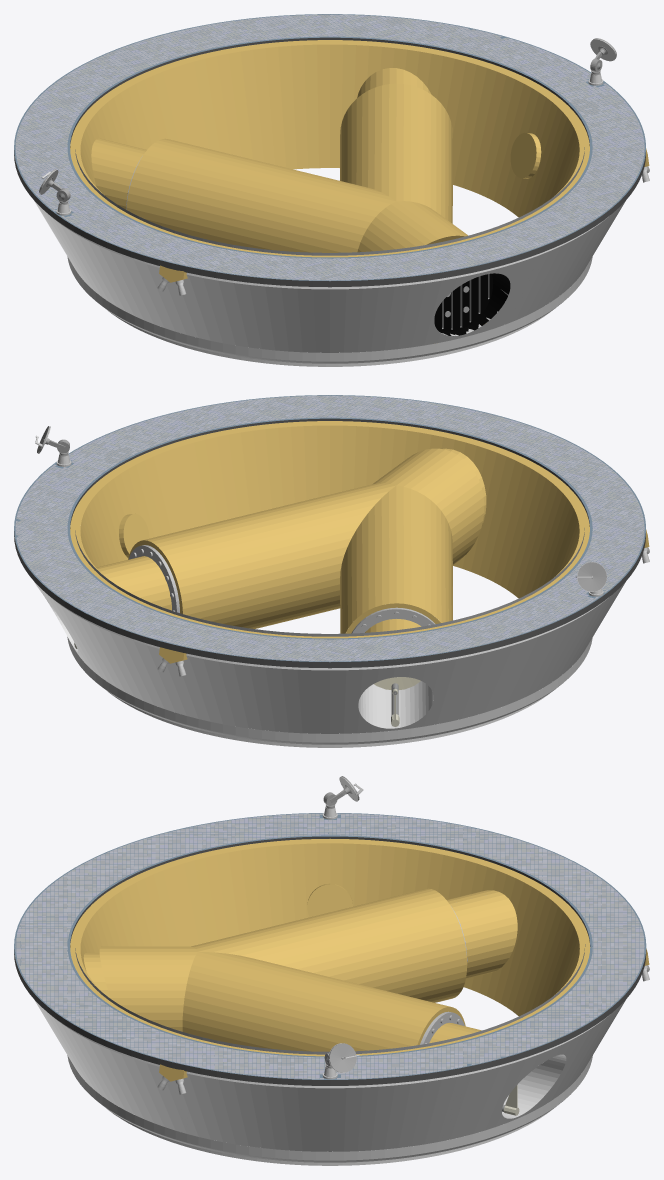
Rendered from Laser Interferometer Space Antenna (LISA) (2006).glb.
3 views of the same model, one above another, from view 1: azimuth 30°, elevation 25°; view 2: azimuth 150°, elevation 25°; view 3: azimuth 270°, elevation 25° (orthographic).
Visible parts, largest first — view 1: Layer_0; view 2: Layer_0; view 3: Layer_0.
Boxes of the visible parts, x1=… form: Layer_0: x1=14, y1=14, x2=649, y2=366; Layer_0: x1=14, y1=395, x2=649, y2=747; Layer_0: x1=14, y1=776, x2=649, y2=1165.
Size of the model in its own units: 2.59 by 0.6509 by 2.49.
